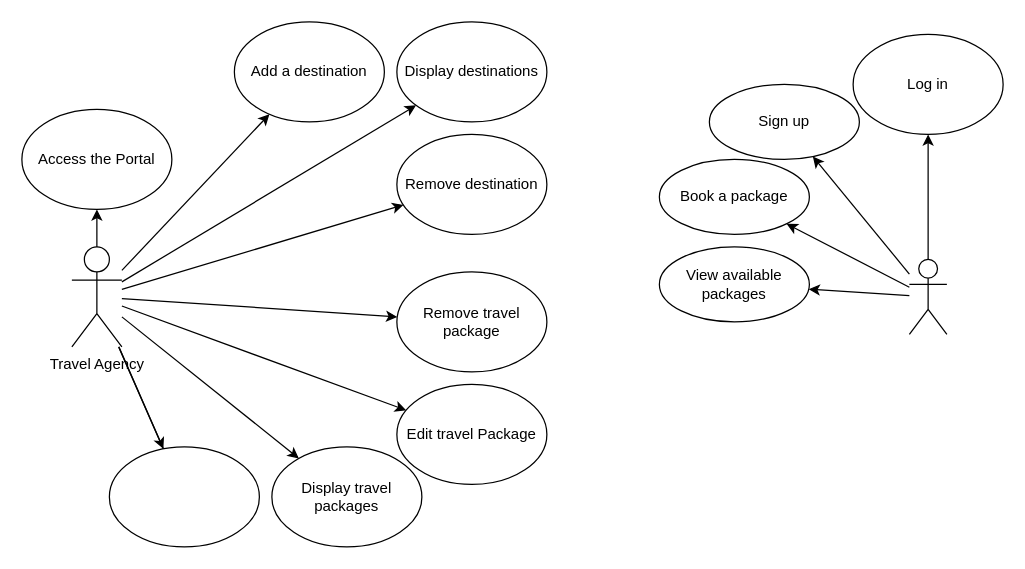
Some shapes in this 1025 by 569 pixel diagram are drawn without their labels. Here are the shapes that lost their labels. From the top down, the centre of each, then its label:
the point at 927,296: User
the point at 183,496: Add travel package
